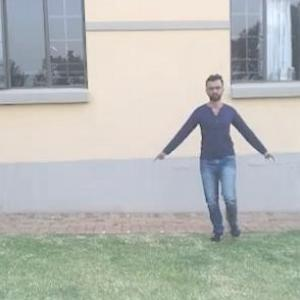land: (170, 81, 266, 230)
